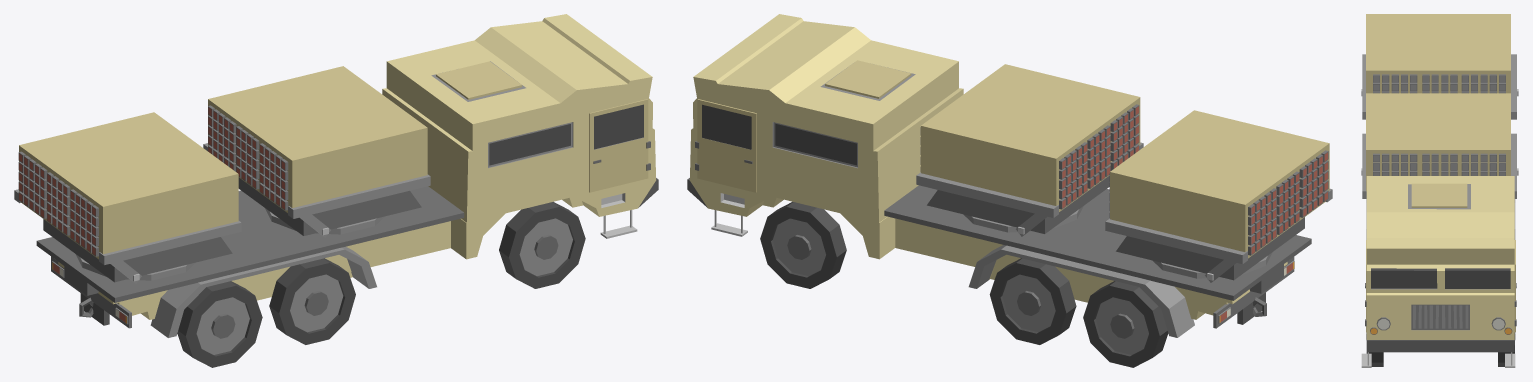
The model's file is kar17.fbx.
3 views of the same model, side by side, from view 1: azimuth 30°, elevation 25°; view 2: azimuth 150°, elevation 25°; view 3: azimuth 270°, elevation 25° (orthographic). The views are drawn at different scales.
Parts seen in each view (by area): view 1: Boole_11, Cube_10, Cube_10_2, Cylinder_4, Cylinder_5, Cylinder_6, Cylinder_1, Cylinder_3; view 2: Boole_11, Cube_10, Cube_10_2, Cylinder_1_2, Cylinder_2, Cylinder_3_2, Cylinder_1, Cylinder_3; view 3: Boole_11, Cube_10_2, Cube_10, Cylinder_4, Cylinder_1_2.
Boxes of the visible parts, <box> form: Boole_11: <box>36,14,658,337</box>; Cube_10: <box>14,112,241,283</box>; Cube_10_2: <box>203,66,430,237</box>; Cylinder_4: <box>499,201,585,288</box>; Cylinder_5: <box>269,258,355,344</box>; Cylinder_6: <box>177,281,262,367</box>; Cylinder_1: <box>43,219,232,282</box>; Cylinder_3: <box>238,177,421,235</box>; Boole_11: <box>687,14,1311,337</box>; Cube_10: <box>1105,110,1332,282</box>; Cube_10_2: <box>916,64,1143,236</box>; Cylinder_1_2: <box>760,201,846,288</box>; Cylinder_2: <box>989,258,1076,344</box>; Cylinder_3_2: <box>1083,281,1168,367</box>; Cylinder_1: <box>1116,217,1304,280</box>; Cylinder_3: <box>927,175,1109,233</box>; Boole_11: <box>1361,176,1516,367</box>; Cube_10_2: <box>1361,93,1518,198</box>; Cube_10: <box>1361,14,1518,119</box>; Cylinder_4: <box>1366,332,1383,366</box>; Cylinder_1_2: <box>1498,332,1515,366</box>.
Size of the model in its own units: 826 by 266 by 235.
